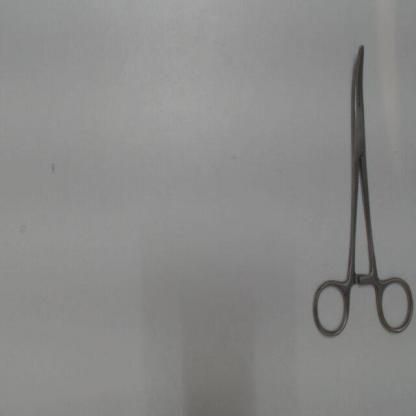Crile Artery Forceps: (308, 33, 414, 339)
